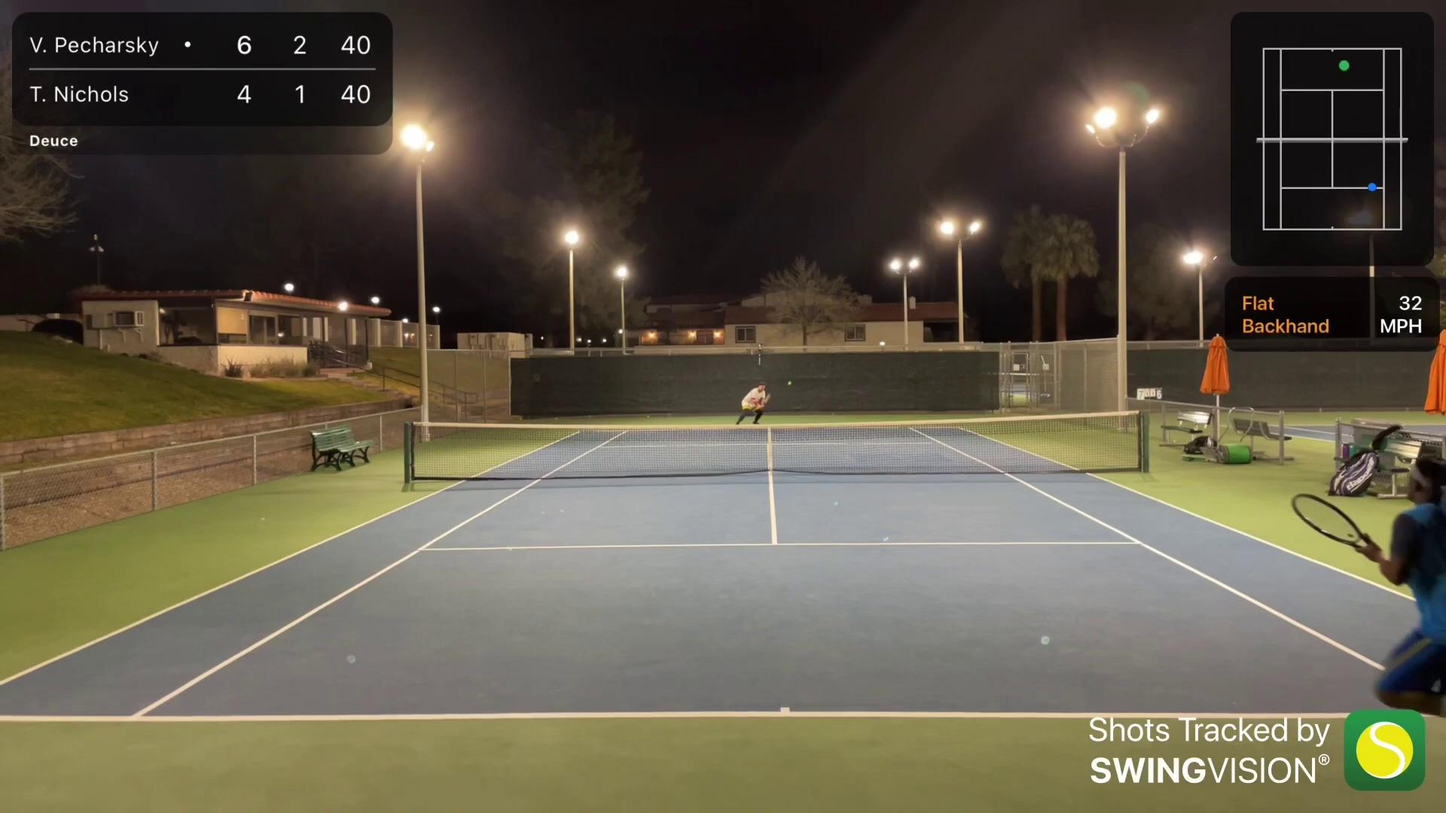ball: (787, 380, 793, 387)
